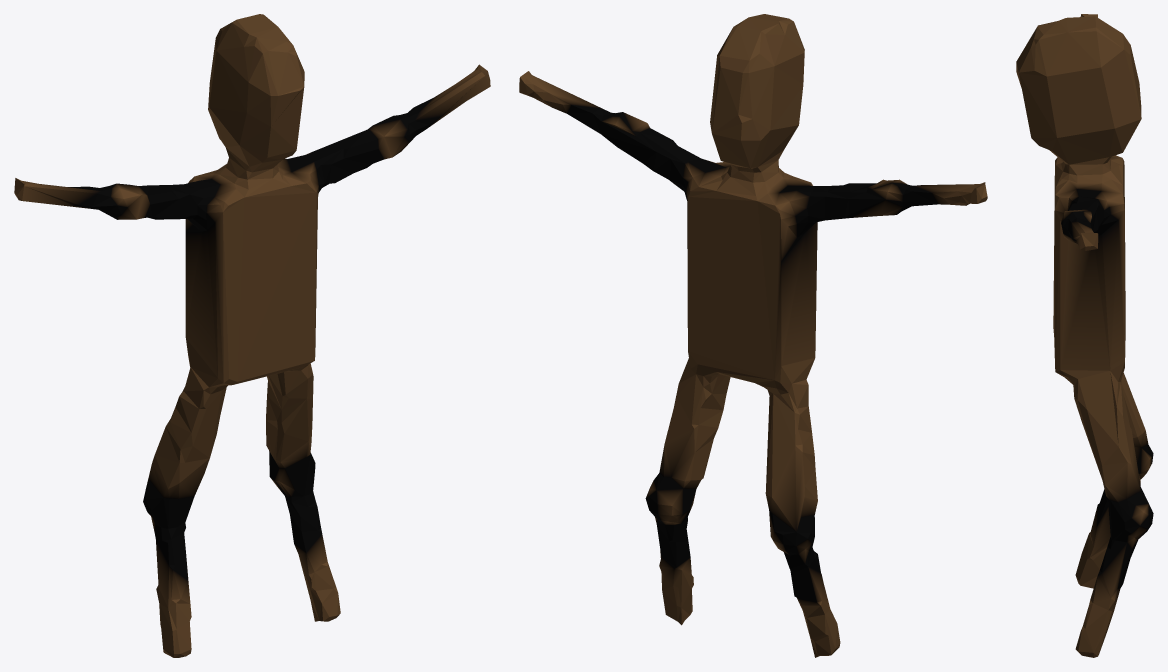
Rendered from Robots and Humanoids(2).glb.
3 renders of one model, left to right at view 1: azimuth 30°, elevation 25°; view 2: azimuth 150°, elevation 25°; view 3: azimuth 270°, elevation 25°, orthographic. The views are drawn at different scales.
Parts seen in each view (by area): view 1: Root; view 2: Root; view 3: Root.
Boxes of the visible parts, x1,y1,x2,y2 form: Root: (14, 14, 490, 657); Root: (519, 14, 987, 657); Root: (1016, 14, 1153, 657).
Size of the model in its own units: 3.45 by 4.34 by 0.8972.
